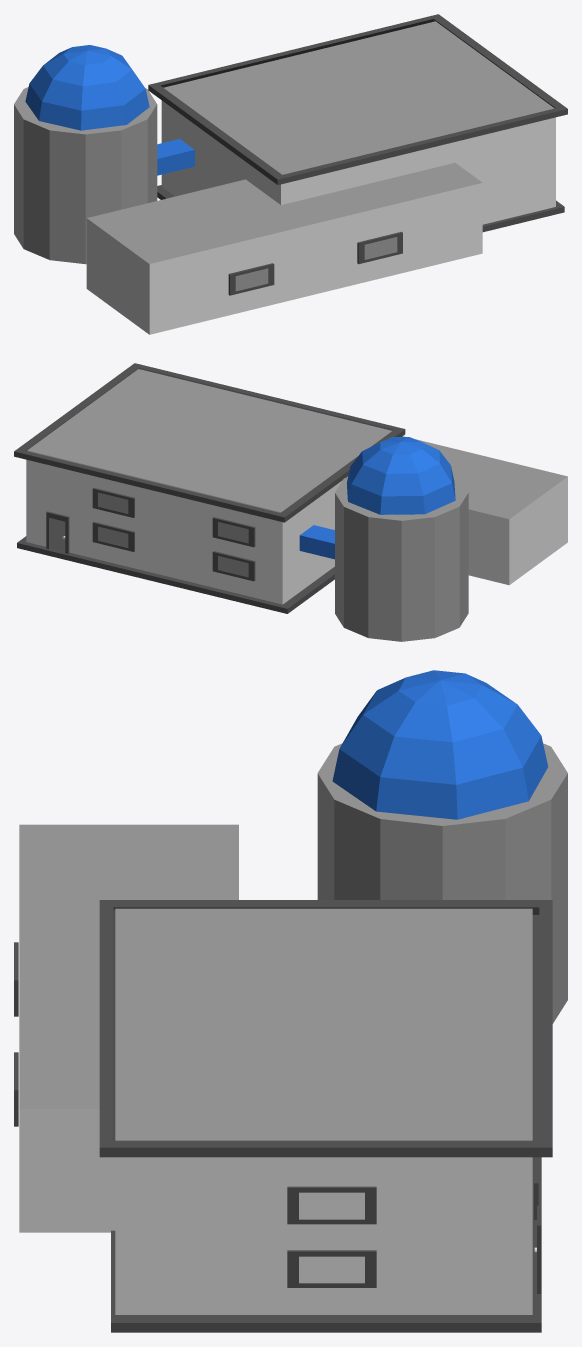
Rendered from recycle.fbx.
3 renders of one model, top to bottom at view 1: azimuth 30°, elevation 25°; view 2: azimuth 150°, elevation 25°; view 3: azimuth 270°, elevation 25°, orthographic. The views are drawn at different scales.
Parts seen in each view (by area): view 1: Cube, Cube.001, Cylinder, Sphere, Cube.003, Cube.002, Plane.008, Plane.007, Cube.004; view 2: Cube, Cylinder, Cube.001, Sphere, Cube.003, Cube.004, Cube.002, Plane.004, Plane.002, Plane, Plane.003, Plane.001; view 3: Cube, Cube.001, Cylinder, Sphere, Cube.003, Cube.004, Plane.006, Plane.005.
Part boxes in pixels (<box>): Cube: <box>161,21,555,224</box>; Cube.001: <box>86,163,482,334</box>; Cylinder: <box>14,87,157,264</box>; Sphere: <box>25,45,149,130</box>; Cube.003: <box>148,14,567,184</box>; Cube.002: <box>157,139,194,175</box>; Plane.008: <box>228,263,274,295</box>; Plane.007: <box>357,231,402,264</box>; Cube.004: <box>157,185,564,232</box>; Cube: <box>26,369,391,604</box>; Cylinder: <box>335,476,468,641</box>; Cube.001: <box>402,436,567,585</box>; Sphere: <box>346,437,455,514</box>; Cube.003: <box>14,363,405,522</box>; Cube.004: <box>17,536,334,613</box>; Cube.002: <box>299,525,334,559</box>; Plane.004: <box>212,517,255,547</box>; Plane.002: <box>212,551,255,581</box>; Plane: <box>92,522,134,551</box>; Plane.003: <box>92,488,134,517</box>; Plane.001: <box>46,511,69,553</box>; Cube: <box>115,908,532,1314</box>; Cube.001: <box>19,824,238,1232</box>; Cylinder: <box>317,743,567,1023</box>; Sphere: <box>332,670,548,819</box>; Cube.003: <box>99,900,552,1157</box>; Cube.004: <box>111,1157,541,1332</box>; Plane.006: <box>287,1186,376,1224</box>; Plane.005: <box>287,1250,376,1287</box>.
Bounding box in the file's own units: 1320 × 526 × 812.
